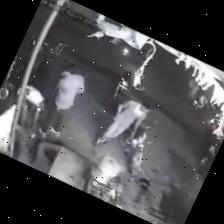person: (29, 64, 84, 162), (92, 100, 150, 146)
